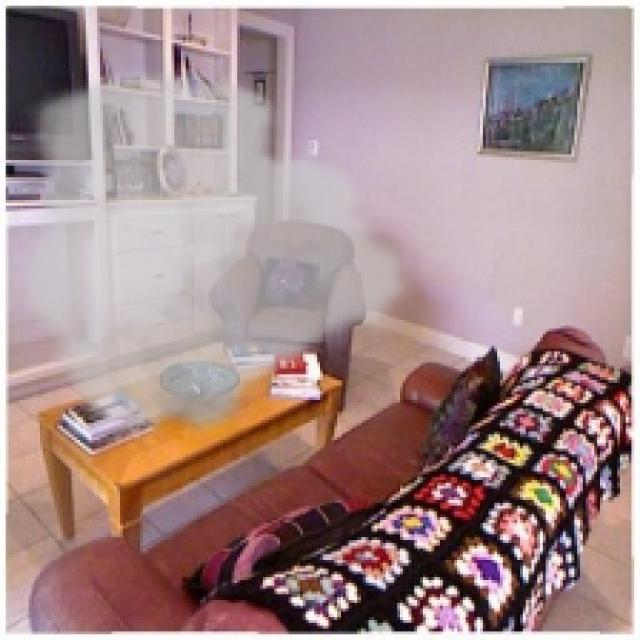Smoke: (17, 63, 420, 446)
